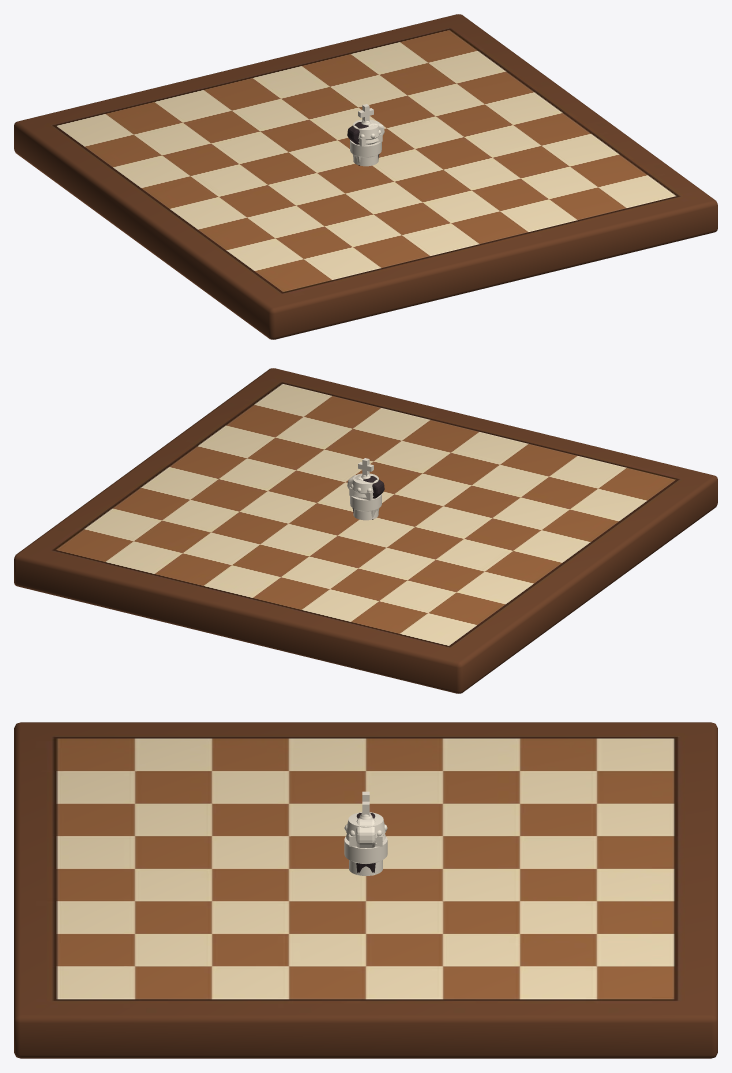
Rendered from chess.glb.
The picture shows the model from 3 angles, top to bottom: view 1: azimuth 30°, elevation 25°; view 2: azimuth 150°, elevation 25°; view 3: azimuth 270°, elevation 25°; orthographic projection. The views are drawn at different scales.
Visible parts, largest first — view 1: CHESS_board, CHESS_rook_light; view 2: CHESS_board, CHESS_rook_light; view 3: CHESS_board, CHESS_rook_light, CHESS_king_light, CHESS_knight_light.
Boxes of the visible parts, left/top/right/bottom form: CHESS_board: left=14, top=14, right=717, bottom=339; CHESS_rook_light: left=350, top=133, right=382, bottom=166; CHESS_board: left=14, top=368, right=717, bottom=693; CHESS_rook_light: left=349, top=487, right=381, bottom=520; CHESS_board: left=14, top=722, right=717, bottom=1058; CHESS_rook_light: left=344, top=834, right=387, bottom=875; CHESS_king_light: left=346, top=791, right=385, bottom=838; CHESS_knight_light: left=356, top=818, right=375, bottom=875.
Size of the model in its own units: 0.44 by 0.082 by 0.44.
3 materials, 1 textured.
